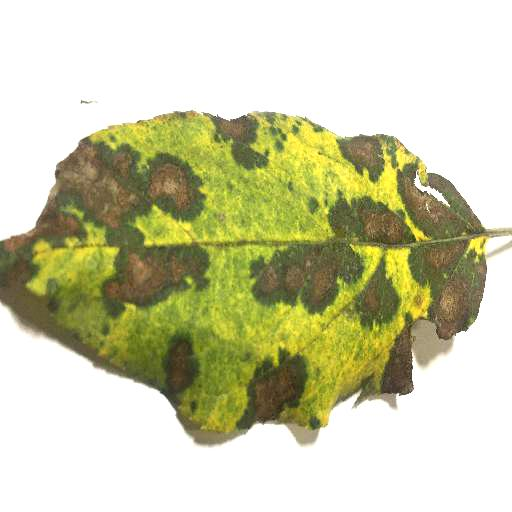Brown_Spot: (6, 152, 220, 237), (321, 165, 464, 241), (367, 249, 481, 332), (241, 237, 364, 309), (96, 237, 217, 307), (241, 357, 308, 424), (153, 330, 205, 401), (332, 121, 383, 174), (205, 107, 262, 147), (389, 326, 413, 386)
